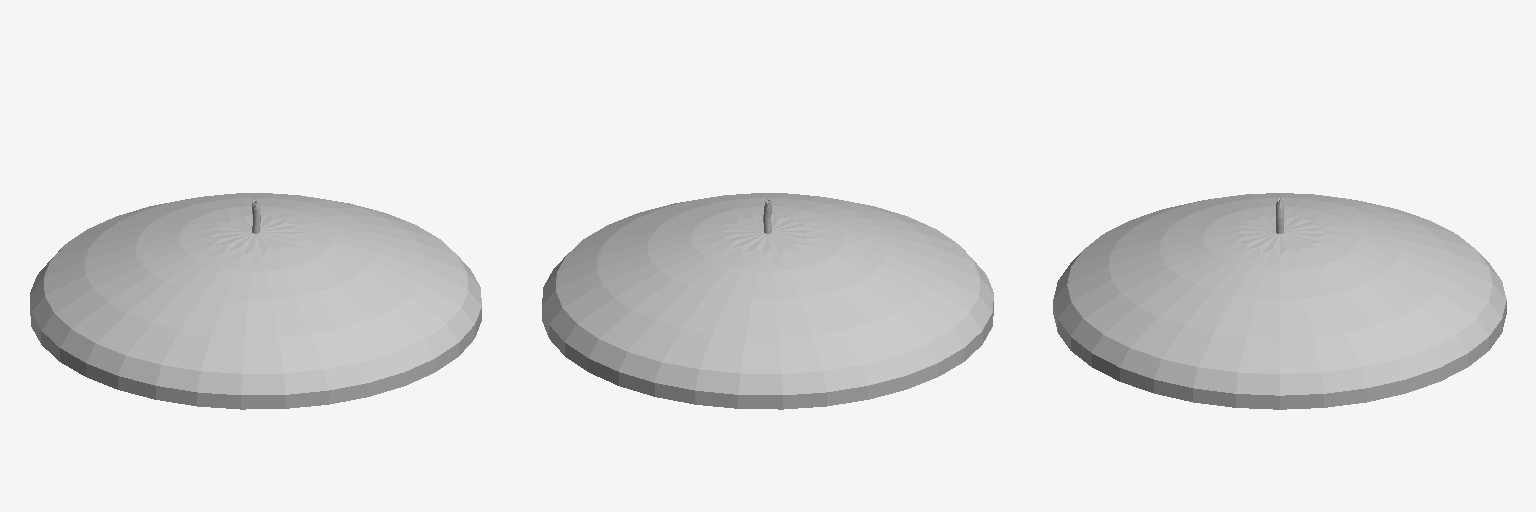
The model's file is candle_top_unmelted.obj.
3 views of the same model, side by side, from view 1: azimuth 30°, elevation 25°; view 2: azimuth 150°, elevation 25°; view 3: azimuth 270°, elevation 25° (orthographic).
Parts seen in each view (by area): view 1: candle_top_unmelted_Cylinder.002; view 2: candle_top_unmelted_Cylinder.002; view 3: candle_top_unmelted_Cylinder.002.
Part boxes in pixels (left/top/right/bottom): candle_top_unmelted_Cylinder.002: left=30, top=193, right=481, bottom=409; candle_top_unmelted_Cylinder.002: left=542, top=193, right=993, bottom=409; candle_top_unmelted_Cylinder.002: left=1053, top=193, right=1506, bottom=409.
Bounding box in the file's own units: 0.5458 × 0.1541 × 0.5458.